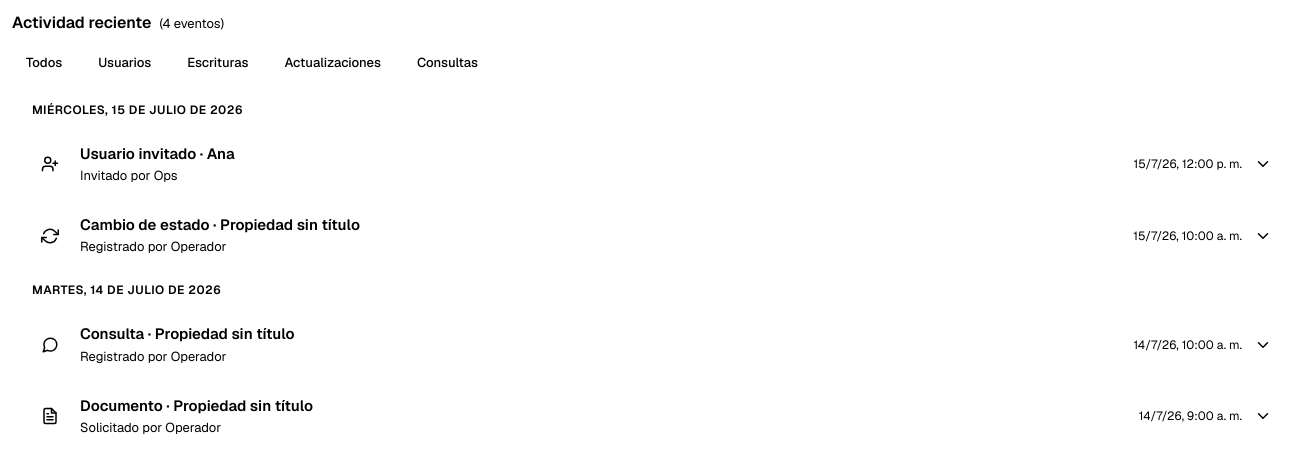
Test: TenantActivityFeed — category filter › filtering by "Usuarios" shows only membership items and hides the rest
What coordinates should you click on to do the following:
click the button with test id "tenant-activity-filter-user"
I would click on:
 (125, 63)
Its box is [84,47,165,78].
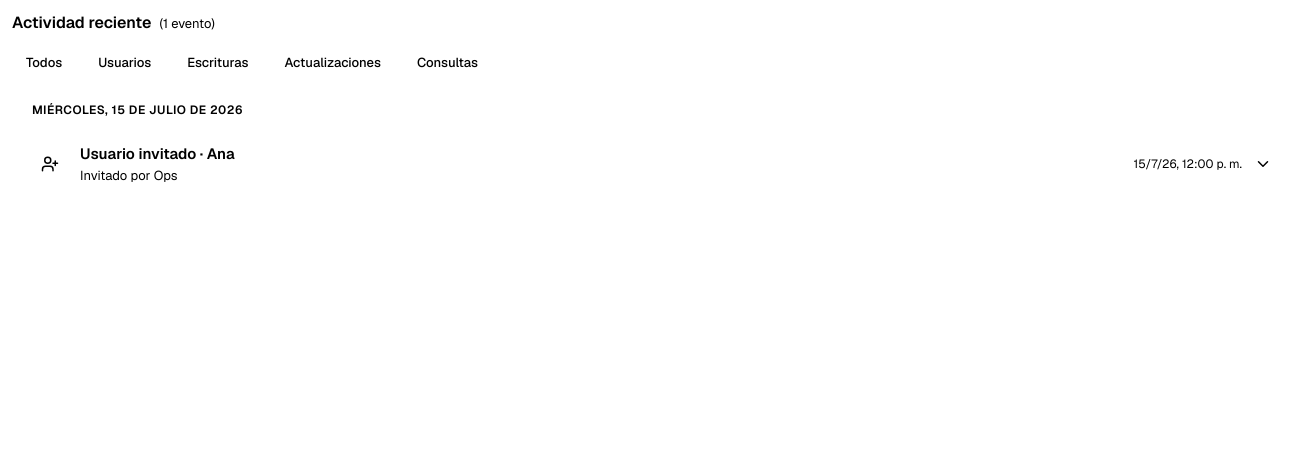
Check: the list item with test id "tenant-activity-item-update-1" is gone
Check: the list item with test id "tenant-activity-item-inquiry-1" is gone
Check: the list item with test id "tenant-activity-item-deed-1" is gone
